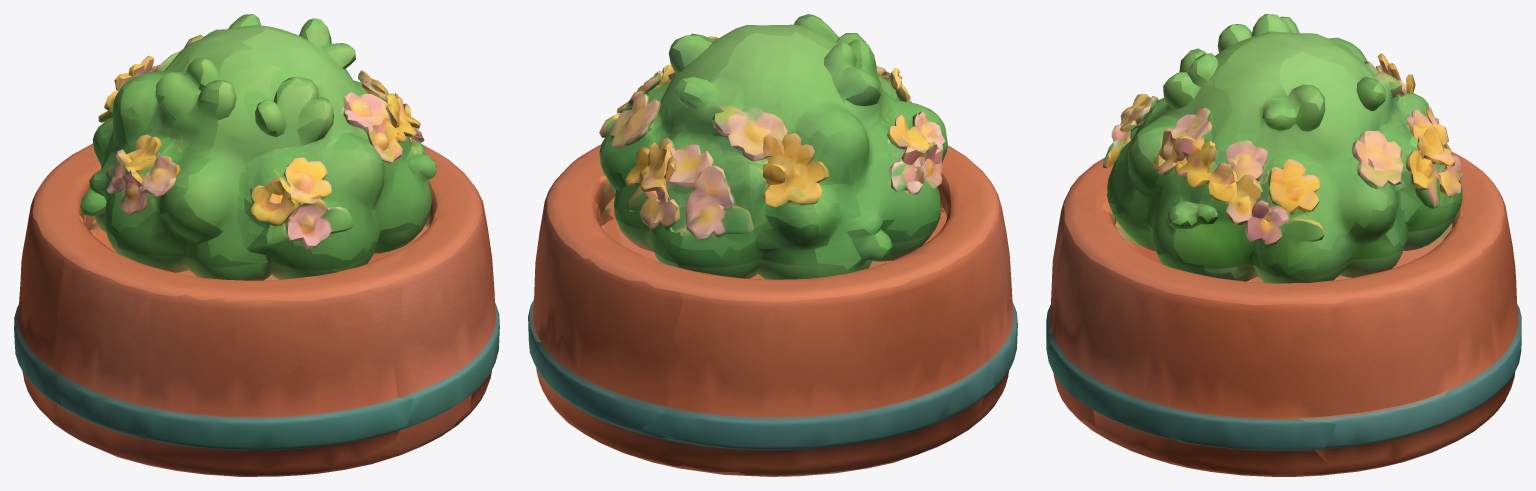
File: PlaygroundPlanter.glb
3 renders of one model, left to right at view 1: azimuth 30°, elevation 25°; view 2: azimuth 150°, elevation 25°; view 3: azimuth 270°, elevation 25°, orthographic. The views are drawn at different scales.
Parts seen in each view (by area): view 1: geometry_0; view 2: geometry_0; view 3: geometry_0.
Part boxes in pixels (x1=…): geometry_0: x1=14, y1=14, x2=499, y2=476; geometry_0: x1=528, y1=14, x2=1017, y2=476; geometry_0: x1=1046, y1=14, x2=1521, y2=476.
Bounding box in the file's own units: 0.12 × 0.0965 × 0.12.
Materials: 1 (1 with a texture image).
